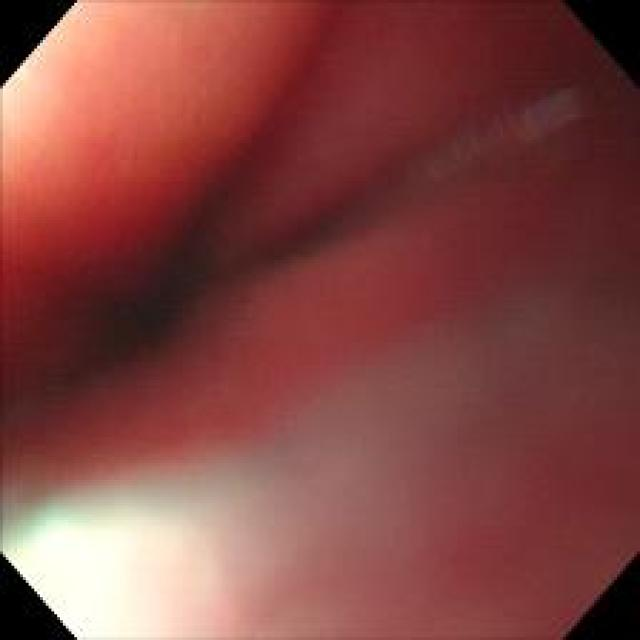blur: (4, 4, 636, 635)
color misalignment: (448, 104, 592, 148)
contrast: (62, 214, 226, 376)
saturation: (9, 511, 205, 634)
